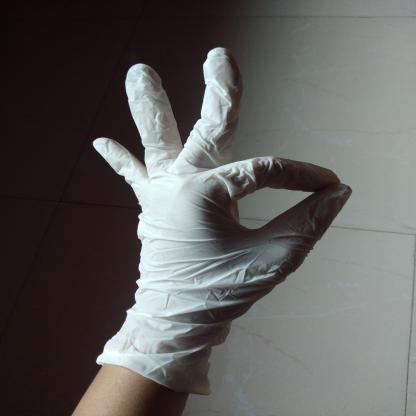gloved_hand: (86, 44, 354, 400)
